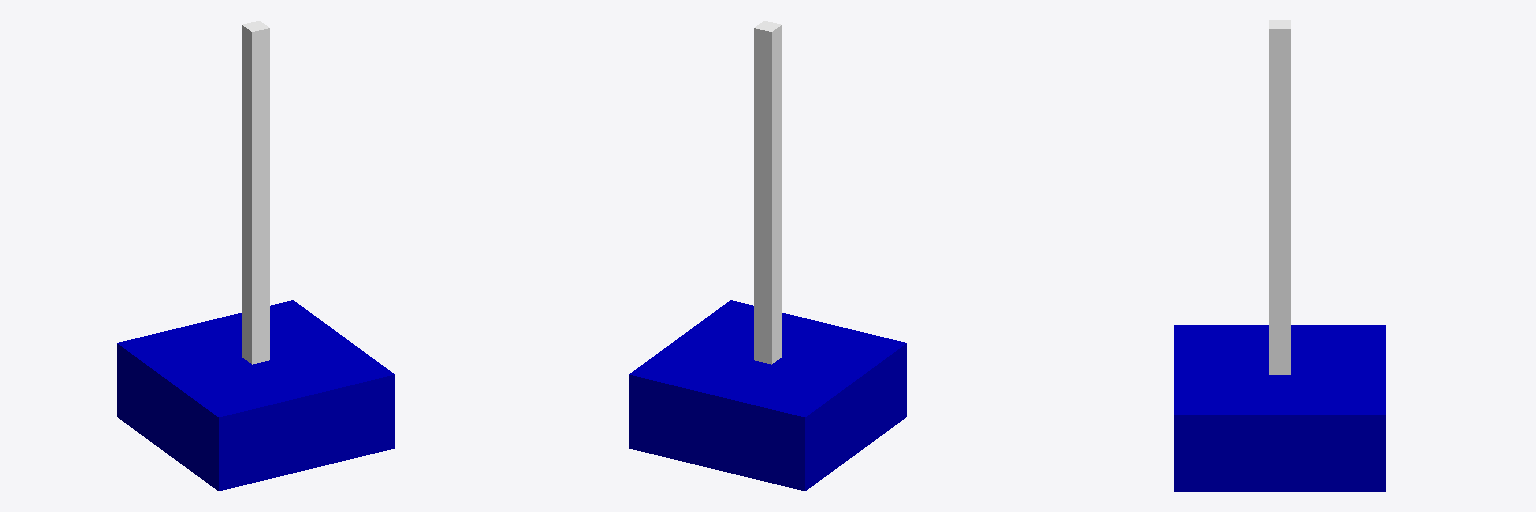
robot.urdf — pendulum:
<?xml version="1.0"?>
<robot name="pendulum">
  <link name="cart">
    <visual>
      <geometry>
        <box size="0.5 0.5 0.2"/>
      </geometry>
      <origin xyz="0 0 0"/>
      <material name="blue">
        <color rgba="0 0 .8 1"/>
      </material>
    </visual>
     <collision>
      <geometry>
          <box size="0.5 0.5 0.2"/>
      </geometry>
      <origin xyz="0 0 0"/>
    </collision>
    <inertial>
      <mass value="10"/>
      <inertia ixx="1.0" ixy="0.0" ixz="0.0" iyy="1.0" iyz="0.0" izz="1.0"/>
    </inertial>
  </link>

  <link name="pole">
    <visual>
      <geometry>
        <box size="0.05 0.05 1.0"/>
      </geometry>
      <origin rpy="0 0 0" xyz="0 0 0.5"/>
      <material name="white">
        <color rgba="1 1 1 1"/>
      </material>
    </visual>
    <inertial>
    <origin xyz="0 0 0.5"/>
      <mass value="0.1"/>
      <inertia ixx="1.0" ixy="0.0" ixz="0.0" iyy="1.0" iyz="0.0" izz="1.0"/>
    </inertial>
    <collision>
      <geometry>
        <box size="0.05 0.05 1.0"/>
      </geometry>
      <origin rpy="0 0 0" xyz="0 0 0.5"/>
    </collision>
  </link>

  <joint name="cart_to_pole" type="continuous">
    <axis xyz="0 1 0"/>
    <origin xyz="0.0 0.0 0"/>
    <parent link="cart"/>
    <child link="pole"/>
  </joint>

</robot>

--- Render facts (derived) ---
Views: 3 orthographic renders of the robot side by side, from view 1: azimuth 30°, elevation 25°; view 2: azimuth 150°, elevation 25°; view 3: azimuth 270°, elevation 25°.
Model pendulum with 2 links and 1 joints (1 continuous), rooted at cart, posed every joint at zero.
Visible links, largest first — view 1: cart, pole; view 2: cart, pole; view 3: cart, pole.
Link boxes in pixels (bbox=[...]): cart: bbox=[117, 300, 394, 490]; pole: bbox=[242, 21, 269, 364]; cart: bbox=[629, 300, 906, 490]; pole: bbox=[754, 21, 781, 364]; cart: bbox=[1174, 325, 1385, 491]; pole: bbox=[1269, 20, 1290, 374].
Size in the robot's own frame: 0.5 by 0.5 by 1.1 metres.
Geometry: primitives only (box / cylinder / sphere), no mesh files.